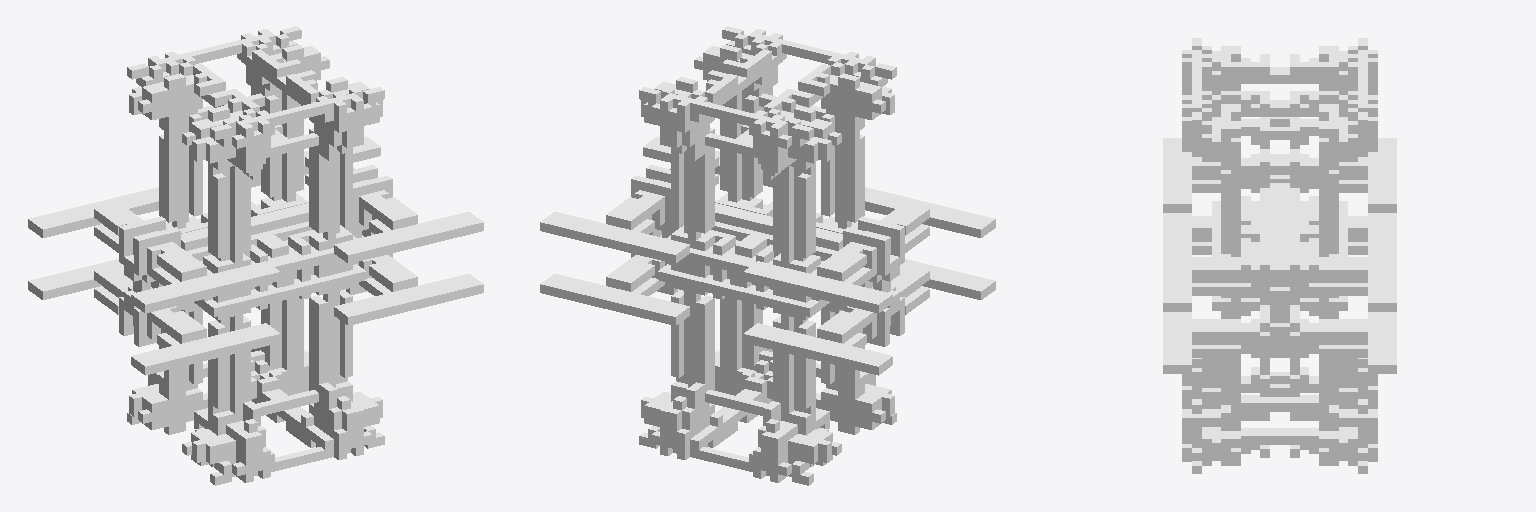
Rendered from station3.obj.
3 views of the same model, side by side, from view 1: azimuth 30°, elevation 25°; view 2: azimuth 150°, elevation 25°; view 3: azimuth 270°, elevation 25° (orthographic).
Parts seen in each view (by area): view 1: station3; view 2: station3; view 3: station3.
Boxes of the visible parts, x1,y1,x2,y2 form: station3: [28, 26, 483, 485]; station3: [540, 26, 995, 485]; station3: [1163, 38, 1396, 473].
Size of the model in its own units: 40 by 40 by 24.